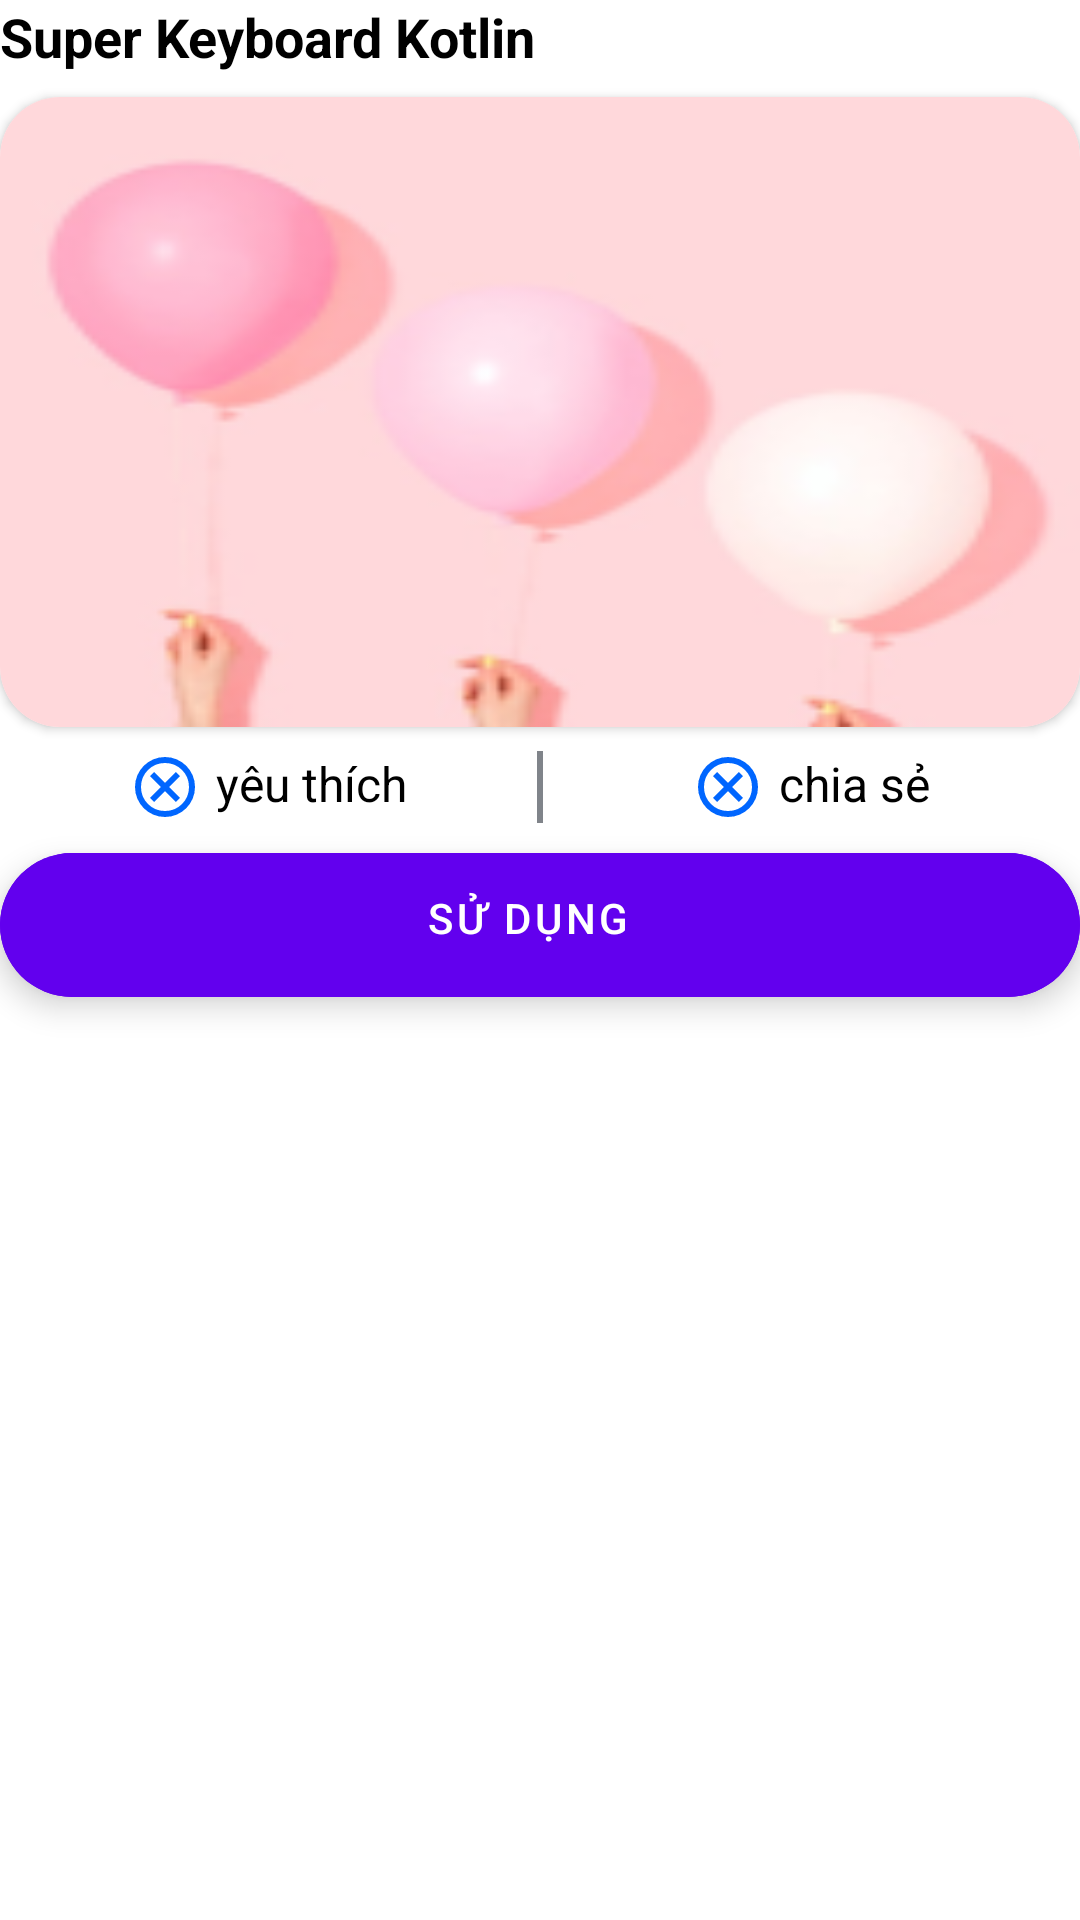

Icon bounding boxes for this 1080w x 1920h phone screenshot, format (x1, y1, x2, y2):
item close: (135, 757, 195, 817), (698, 757, 758, 817)
